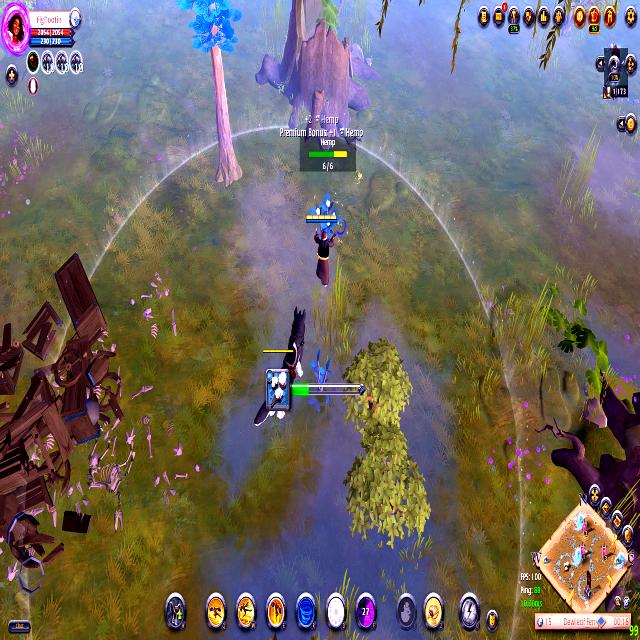hide: (304, 192, 343, 245)
red: (306, 212, 338, 288)
wisp caged: (173, 0, 256, 196)
